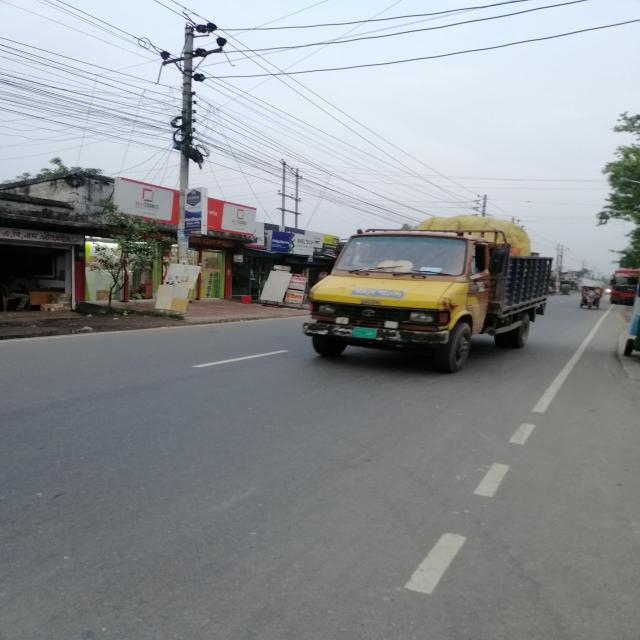Pick-up-van: (296, 205, 574, 369)
